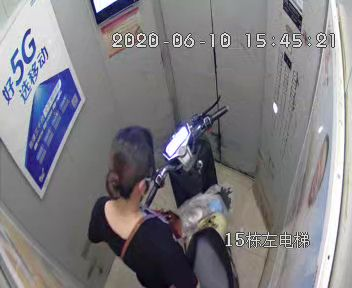Electric-bicycle: (142, 94, 240, 288)
